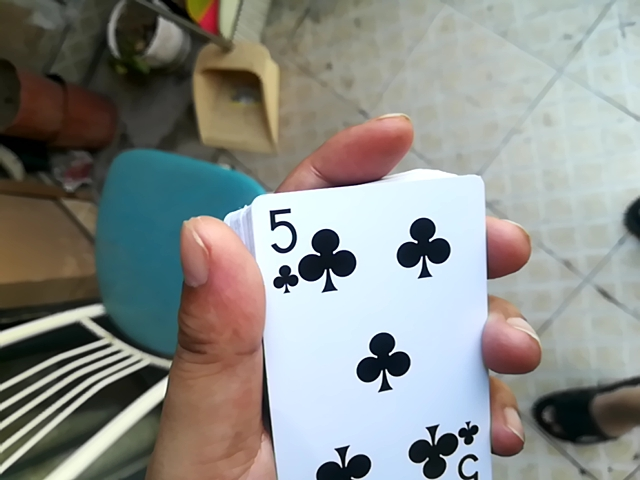mh 5: (243, 163, 488, 480)
